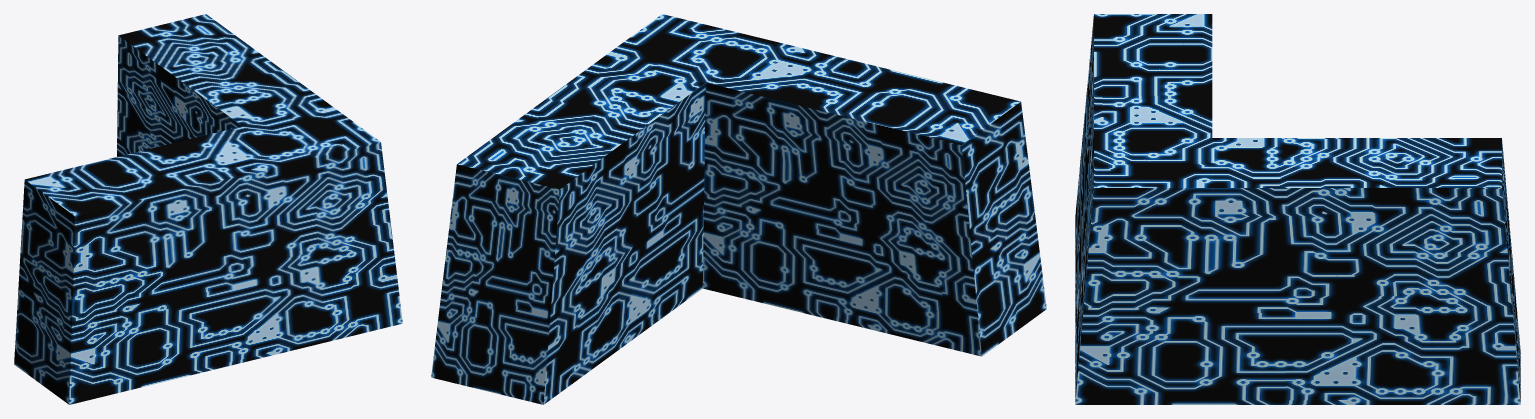
File: LBarrier.fbx
The picture shows the model from 3 angles, left to right: view 1: azimuth 30°, elevation 25°; view 2: azimuth 150°, elevation 25°; view 3: azimuth 270°, elevation 25°; orthographic projection. The views are drawn at different scales.
Parts seen in each view (by area): view 1: LBarrier; view 2: LBarrier; view 3: LBarrier.
Boxes of the visible parts, box(x1,y1,x2,y2) form: LBarrier: box(14, 14, 402, 404); LBarrier: box(431, 14, 1046, 404); LBarrier: box(1075, 14, 1520, 404).
Size of the model in its own units: 7.79 by 4 by 7.72.
Materials: 1 (1 with a texture image).
